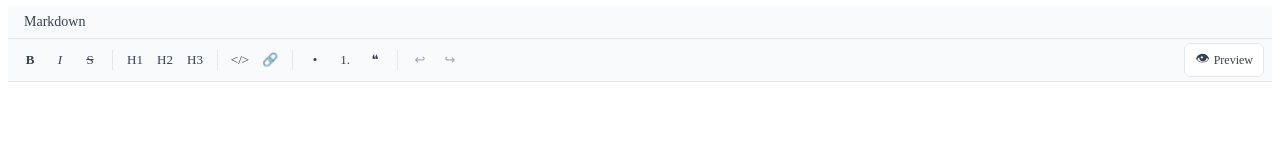
Scenario: MarkdownEditor › 空コンテンツの処理 › 空コンテンツでプレビューモードに切り替えた場合、プレースホルダーが表示される
Click the button with aria-label "プレビュー表示に切り替え".
click(1224, 60)  # box x1=1184 y1=43 x2=1264 y2=77
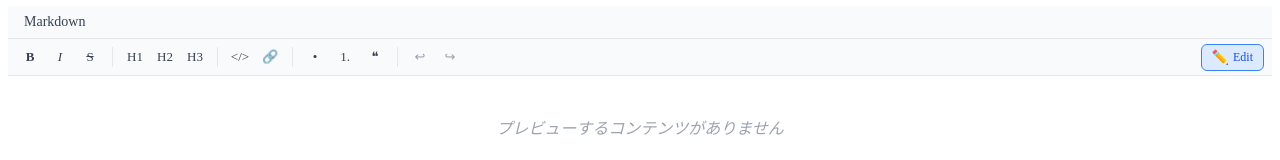
Expected: the text "プレビューするコンテンツがありません" is shown, x1=496 y1=116 x2=784 y2=142
